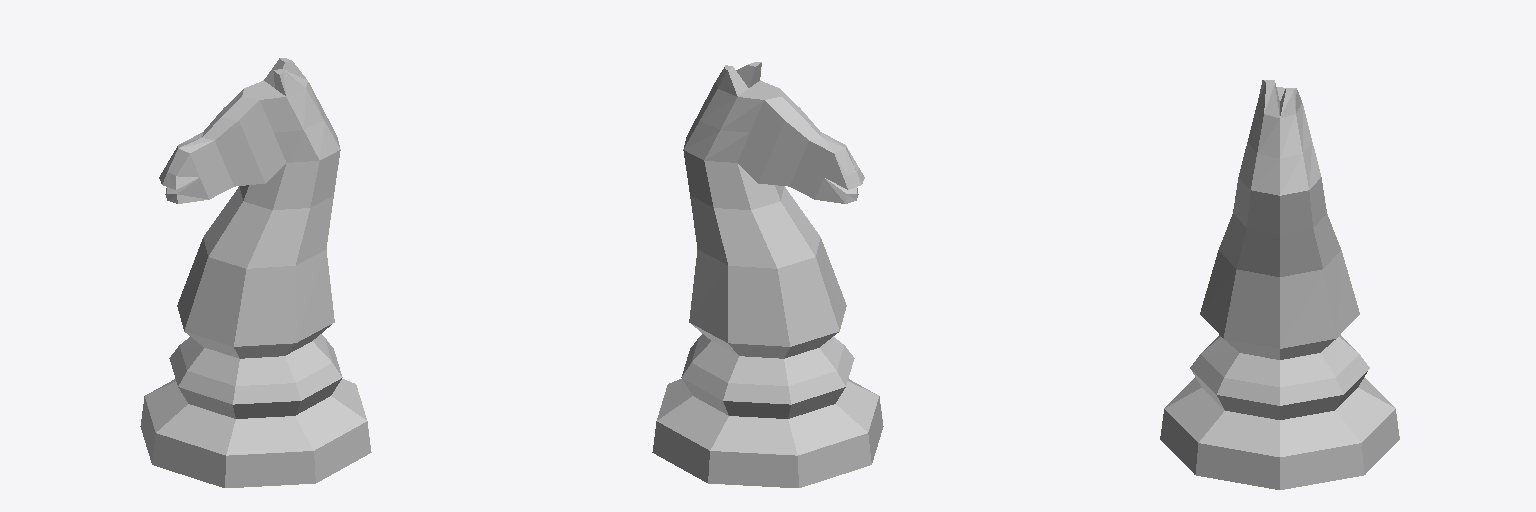
Rendered from Horsey_chess.obj.
3 views of the same model, side by side, from view 1: azimuth 30°, elevation 25°; view 2: azimuth 150°, elevation 25°; view 3: azimuth 270°, elevation 25° (orthographic).
Visible parts, largest first — view 1: Horsey_piece; view 2: Horsey_piece; view 3: Horsey_piece.
Boxes of the visible parts, x1,y1,x2,y2 form: Horsey_piece: [140, 58, 371, 487]; Horsey_piece: [652, 62, 883, 487]; Horsey_piece: [1160, 80, 1399, 489].
Bounding box in the file's own units: 1.68 × 2.84 × 1.68.